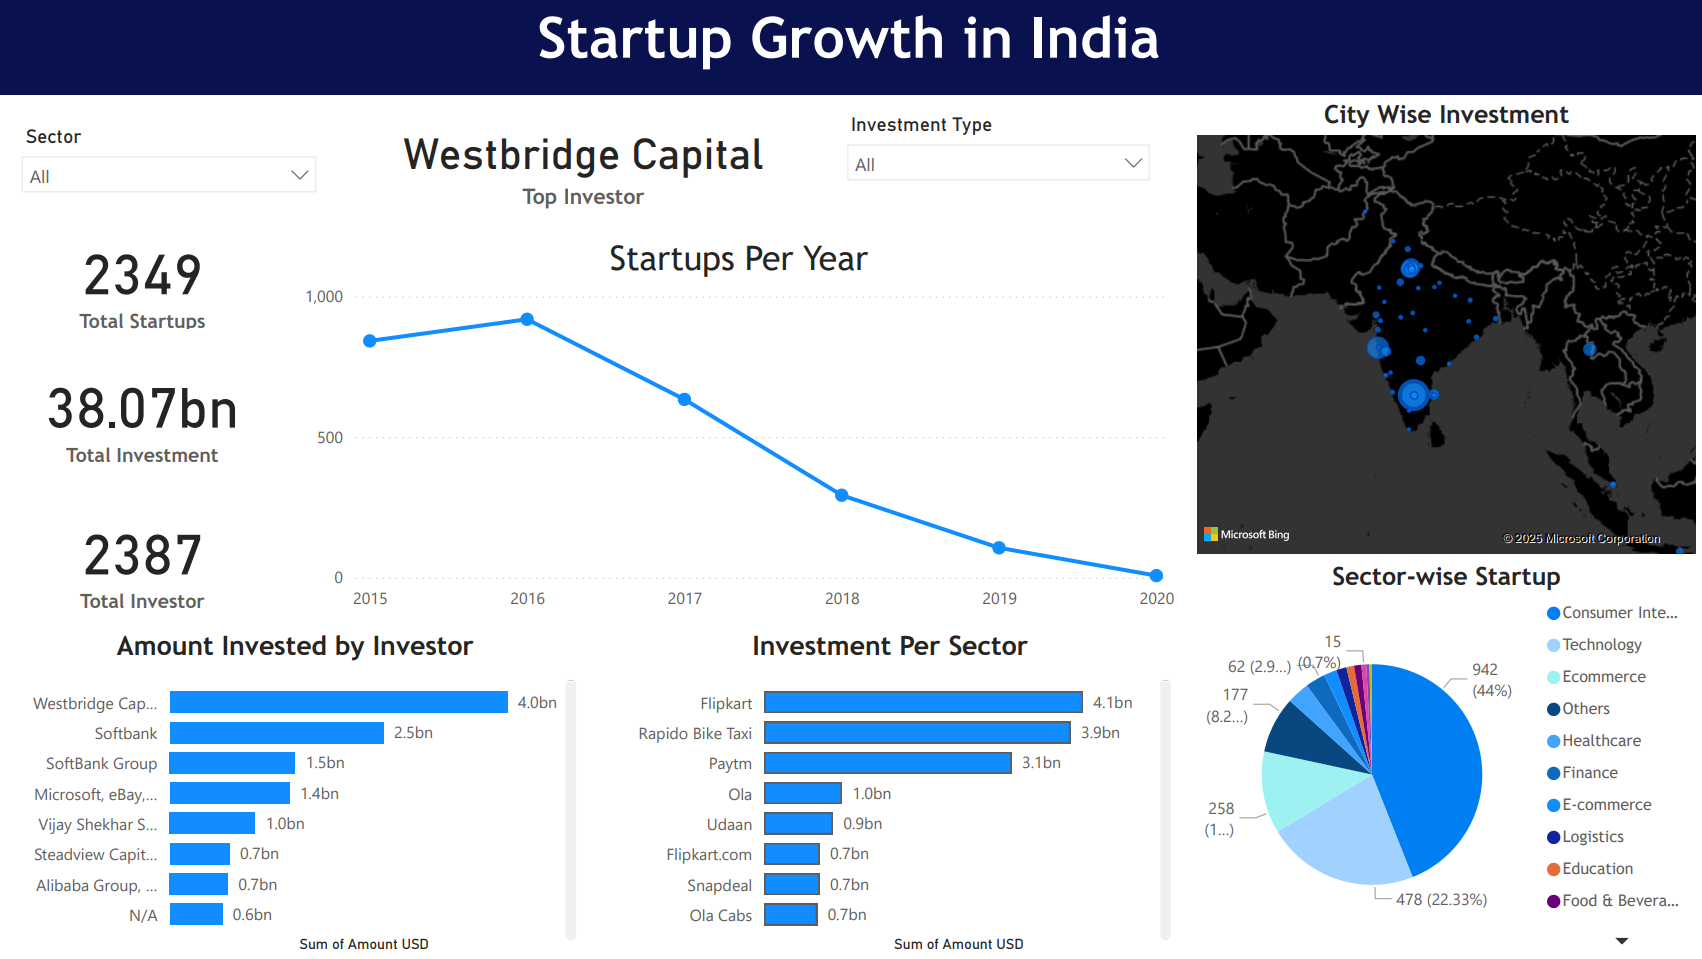

Layout of this report page (visuals, bound fields, positions):
{"tool":"powerbi","page":{"name":"Page 1","canvas":[1280,720],"ordinal":0},"visuals":[{"type":"card","fields":{"Values":["startup_funding.Total Startups"]},"box":[10.4,169.9,201.2,83.5],"z":0},{"type":"lineChart","title":"Startups Per Year","fields":{"Y":["startup_funding.Startup"],"Category":["startup_funding.Year"]},"box":[226.6,180.4,661.9,287.7],"z":1000},{"type":"pieChart","title":"Sector-wise Startup","fields":{"Category":["startup_funding.Sector"],"Y":["startup_funding.Startup"]},"box":[897.4,421.9,383.1,298.1],"z":2000},{"type":"barChart","title":"Investment Per Sector","fields":{"Y":["startup_funding.Amount USD"],"Category":["startup_funding.Startup"]},"box":[456.1,474,430.8,246],"z":3000},{"type":"barChart","title":"Amount Invested by Investor","fields":{"Y":["startup_funding.Amount USD"],"Category":["startup_funding.Investor"]},"box":[10.4,474,430.8,246],"z":4000},{"type":"card","fields":{"Values":["startup_funding.Total Investment"]},"box":[10.4,263.9,201.2,95.4],"z":5000},{"type":"card","fields":{"Values":["startup_funding.Total Investor"]},"box":[10.4,377.1,201.2,89.4],"z":6000},{"type":"slicer","fields":{"Values":["startup_funding.Sector"]},"box":[10.4,90.9,241.5,76],"z":7000},{"type":"map","title":"City Wise Investment","fields":{"Category":["startup_funding.City"],"Size":["startup_funding.Amount USD"]},"box":[897.4,76,383.1,345.8],"z":8000},{"type":"slicer","fields":{"Values":["startup_funding.Investment Type"]},"box":[629.1,82,247.5,83.5],"z":9000},{"type":"card","fields":{"Values":["startup_funding.Top Investor"]},"box":[263.9,82,354.8,83.5],"z":10000},{"type":"textbox","box":[0,0,1280.5,73],"z":11000}]}

Visuals, with their boxes in screenshot pixels (x1, y1, x2, y2), scaled from the page's 1280x720 canvas onto the 1702x959 screenshot:
card - startup_funding.Total Startups: bbox=[14, 226, 281, 338]
"Startups Per Year" lineChart: bbox=[301, 240, 1181, 623]
"Sector-wise Startup" pieChart: bbox=[1193, 562, 1701, 958]
"Investment Per Sector" barChart: bbox=[606, 631, 1179, 958]
"Amount Invested by Investor" barChart: bbox=[14, 631, 587, 958]
card - startup_funding.Total Investment: bbox=[14, 352, 281, 479]
card - startup_funding.Total Investor: bbox=[14, 502, 281, 621]
slicer - startup_funding.Sector: bbox=[14, 121, 335, 222]
"City Wise Investment" map: bbox=[1193, 101, 1701, 562]
slicer - startup_funding.Investment Type: bbox=[837, 109, 1166, 220]
card - startup_funding.Top Investor: bbox=[351, 109, 823, 220]
textbox: bbox=[0, 0, 1701, 97]
